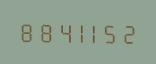eight: (17, 18, 33, 43), (34, 19, 50, 43)
five: (102, 20, 118, 44)
four: (51, 19, 67, 43)
one: (68, 19, 84, 44), (85, 20, 101, 44)
two: (119, 20, 135, 45)
